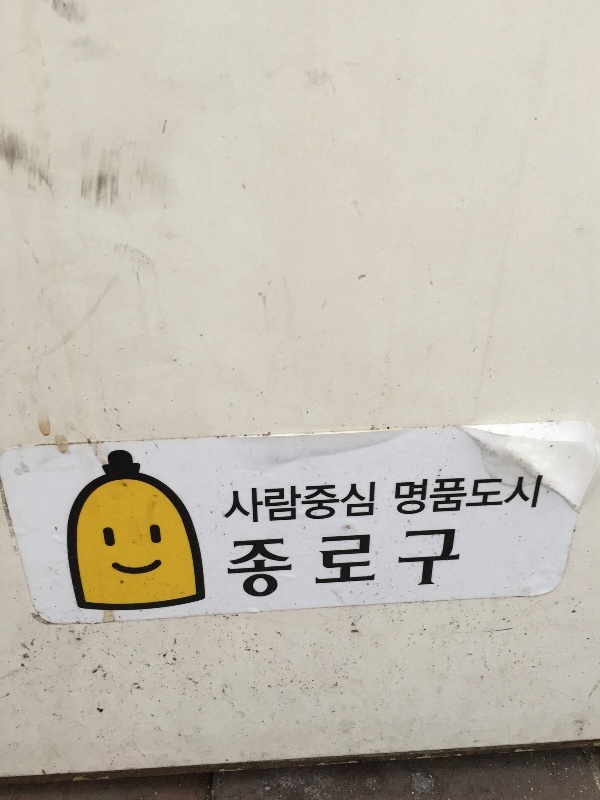text: (241, 535, 256, 603), (257, 535, 272, 603), (273, 535, 288, 603), (417, 526, 432, 589), (433, 526, 448, 589), (402, 526, 416, 589), (449, 526, 463, 589), (228, 535, 240, 603), (321, 532, 336, 586), (337, 532, 352, 586), (353, 532, 368, 586), (241, 479, 256, 528), (257, 479, 272, 528), (273, 479, 288, 528), (289, 479, 304, 528), (305, 479, 320, 528), (321, 479, 336, 528), (337, 479, 352, 528), (353, 479, 368, 528), (226, 479, 240, 528), (401, 474, 416, 519), (417, 474, 432, 519), (433, 474, 448, 519), (449, 474, 464, 519), (465, 474, 480, 519), (481, 474, 496, 519), (497, 474, 512, 519), (513, 474, 528, 519), (529, 474, 544, 519), (369, 479, 377, 528), (369, 532, 376, 586), (289, 535, 293, 603), (396, 474, 400, 519)
